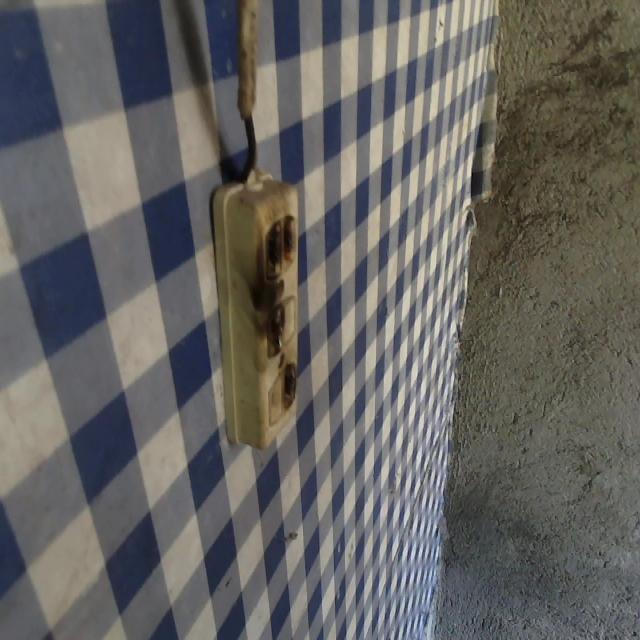-: (258, 210, 298, 278), (262, 297, 289, 359), (280, 364, 298, 405)
